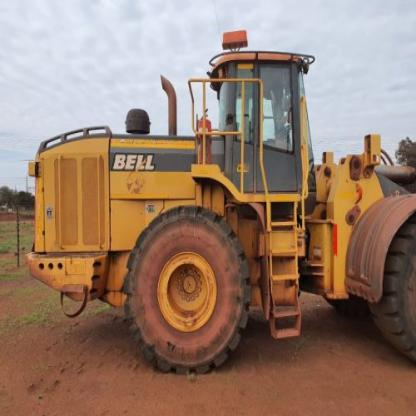bull_dozer/loader/grader: (26, 35, 415, 385)
